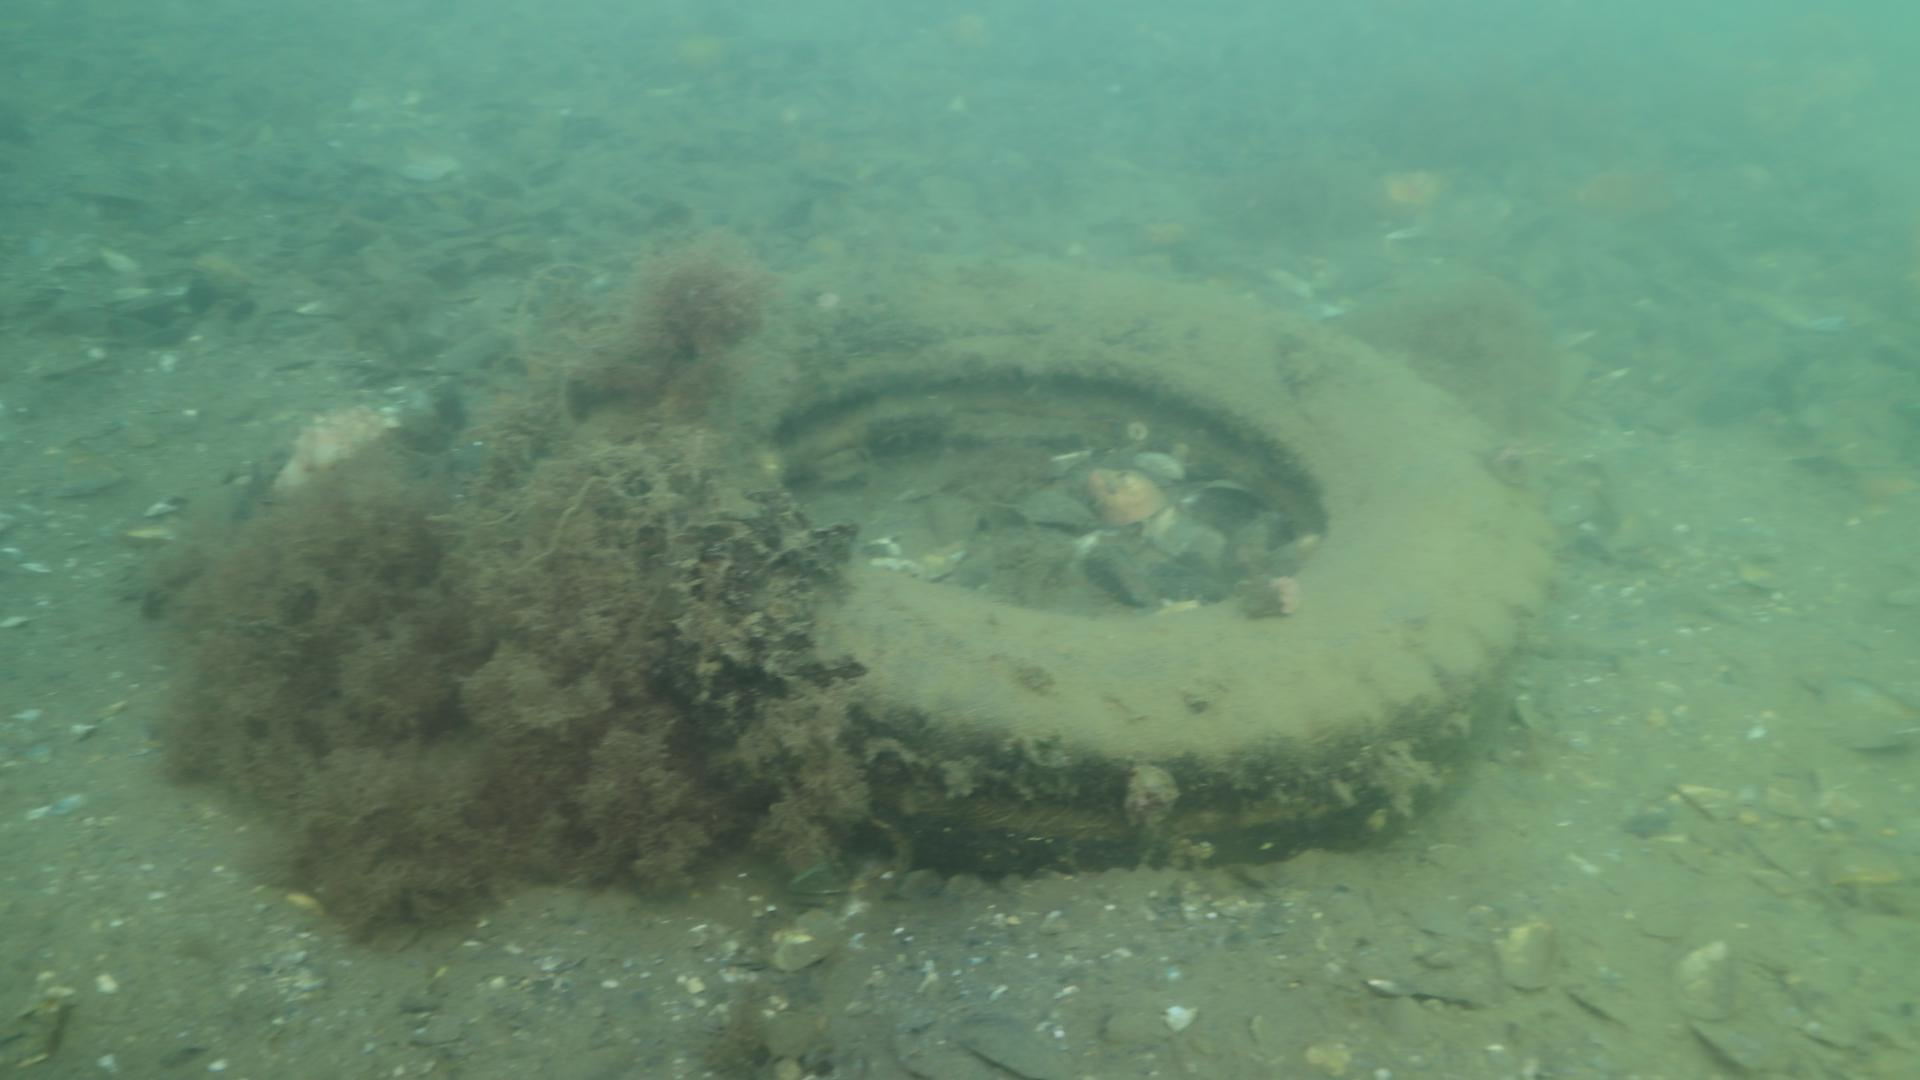tire: (728, 253, 1559, 881)
